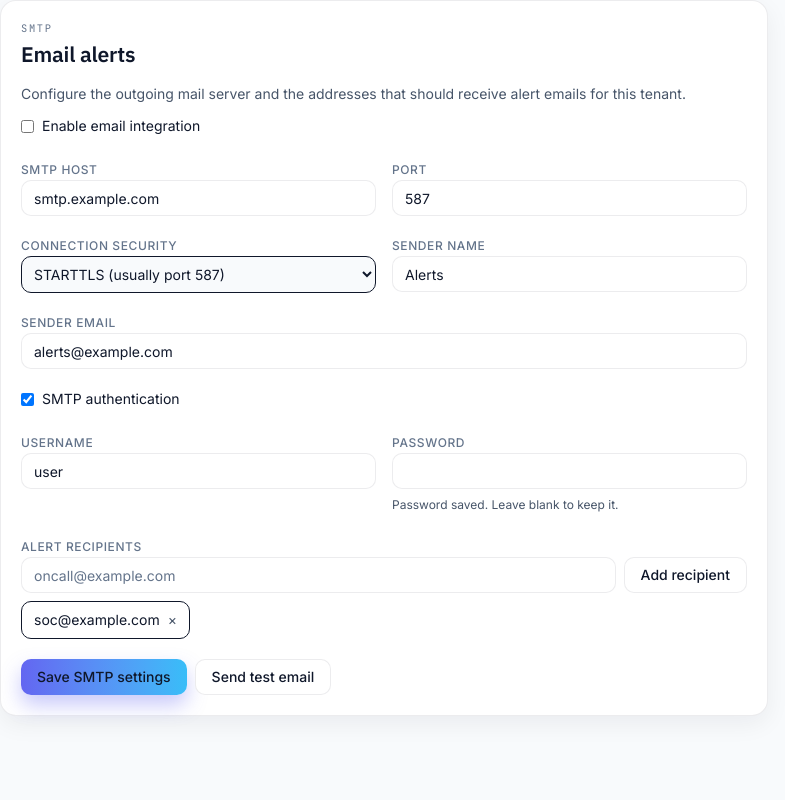
Test: adds unique recipients and sends a test only after settings exist
In the field labelled "Alert recipients": (318, 575) [21,557,616,593], type "second@example.com"
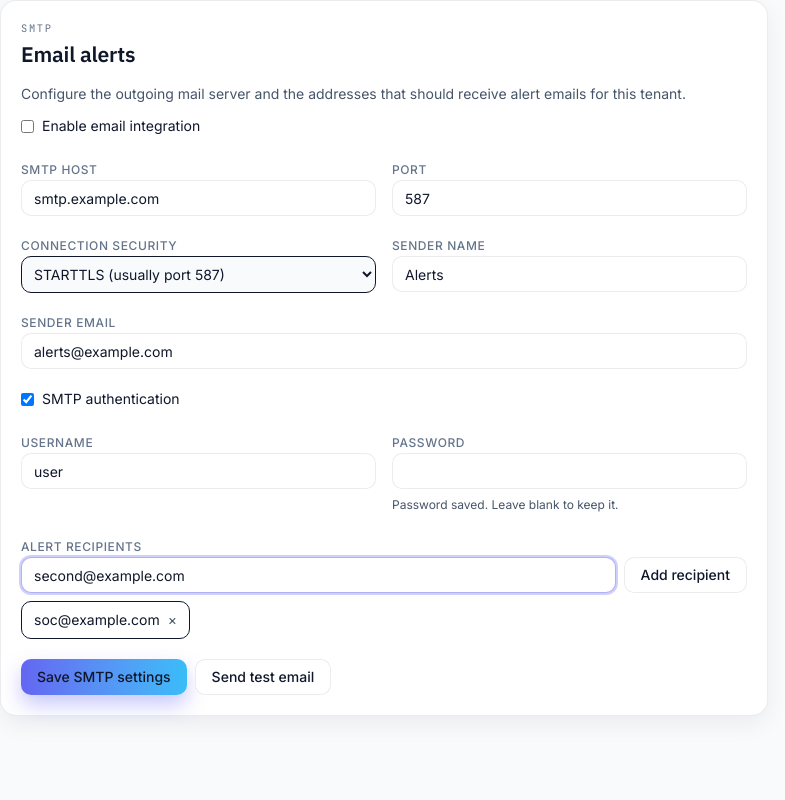
Click the button "Add recipient": (685, 575) [624,557,747,593]
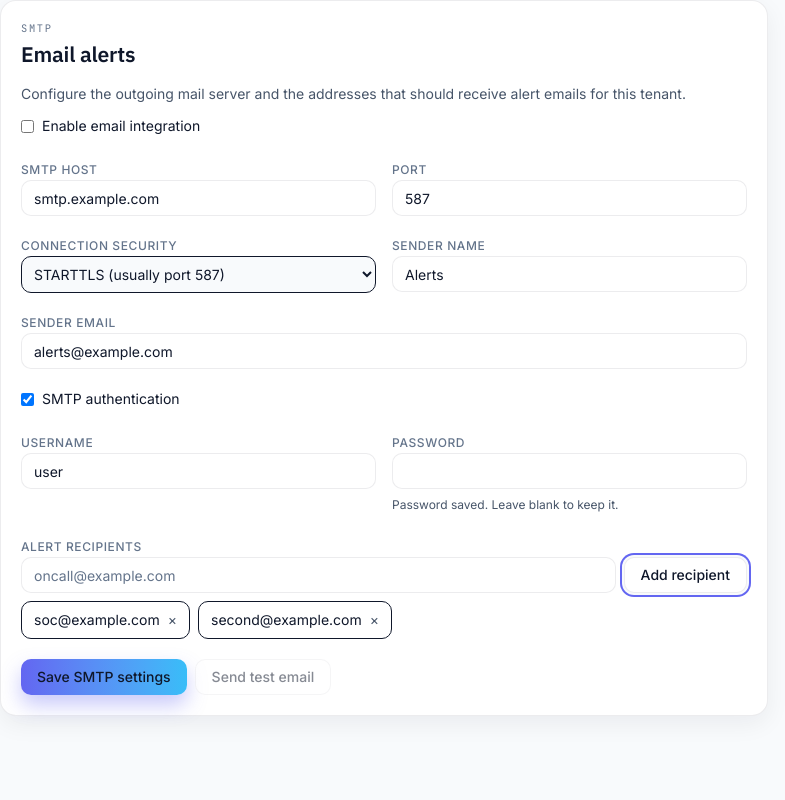
Result: the text "second@example.com" is shown at [211,610,362,630]
Result: the button "Send test email" is disabled at [195,659,331,695]
Click the button "Save SMTP settings": (104, 677) [21,659,187,695]
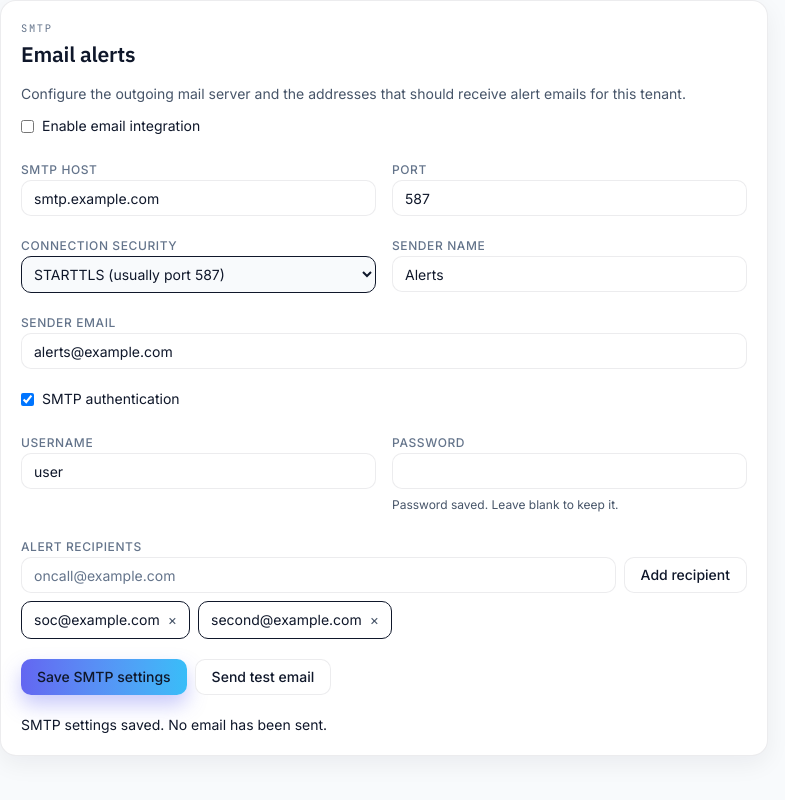
Result: the text "SMTP settings saved. No email has been sent." is shown at [21,716,327,733]
Click the button "Send test email": (263, 677) [195,659,331,695]
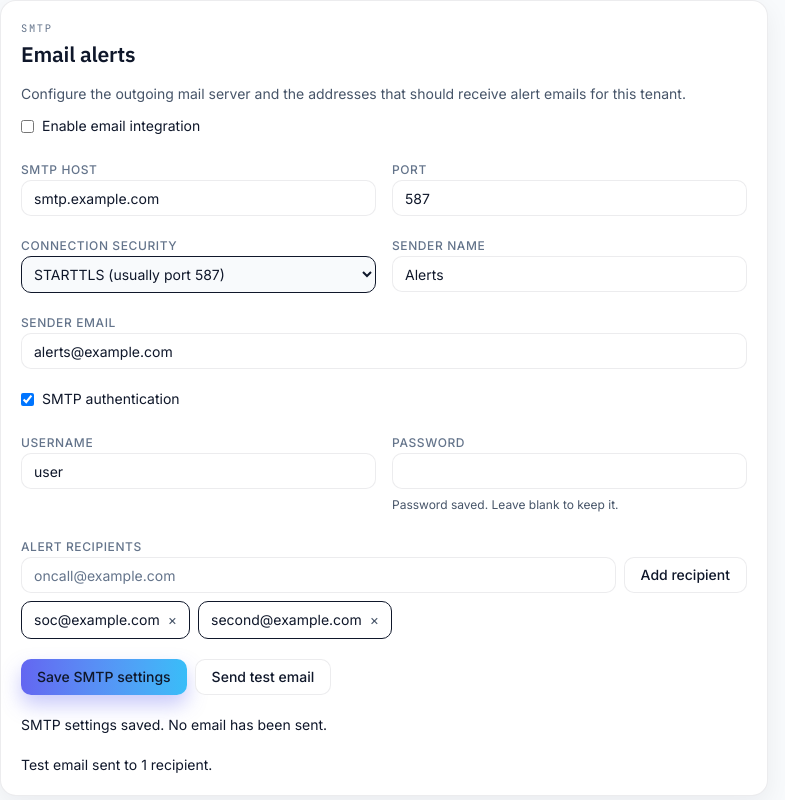
Result: the text "Test email sent to 1 recipient." is shown at [21,756,212,773]
